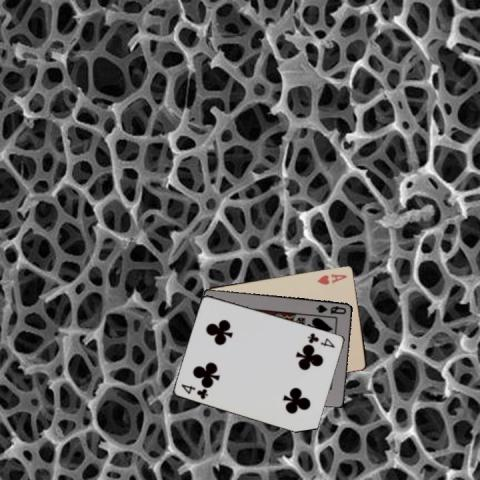4c: (179, 380, 209, 401), (304, 330, 336, 349)
Ah: (314, 270, 348, 286)
Qs: (313, 302, 348, 316)
